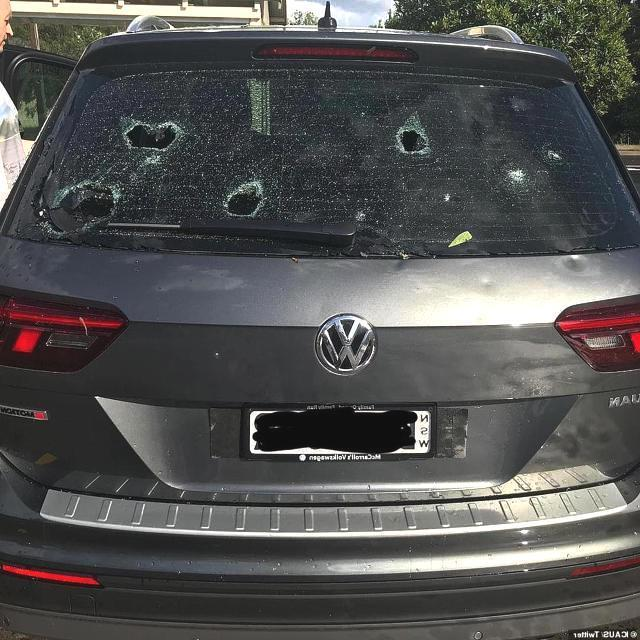minor: (553, 255, 602, 275), (474, 275, 498, 291)
severe: (45, 177, 137, 229), (214, 157, 269, 221), (118, 116, 186, 166), (394, 106, 436, 168), (505, 161, 532, 194), (548, 151, 563, 163)
